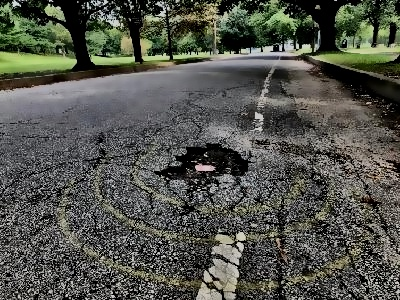pothole: (155, 141, 254, 185)
